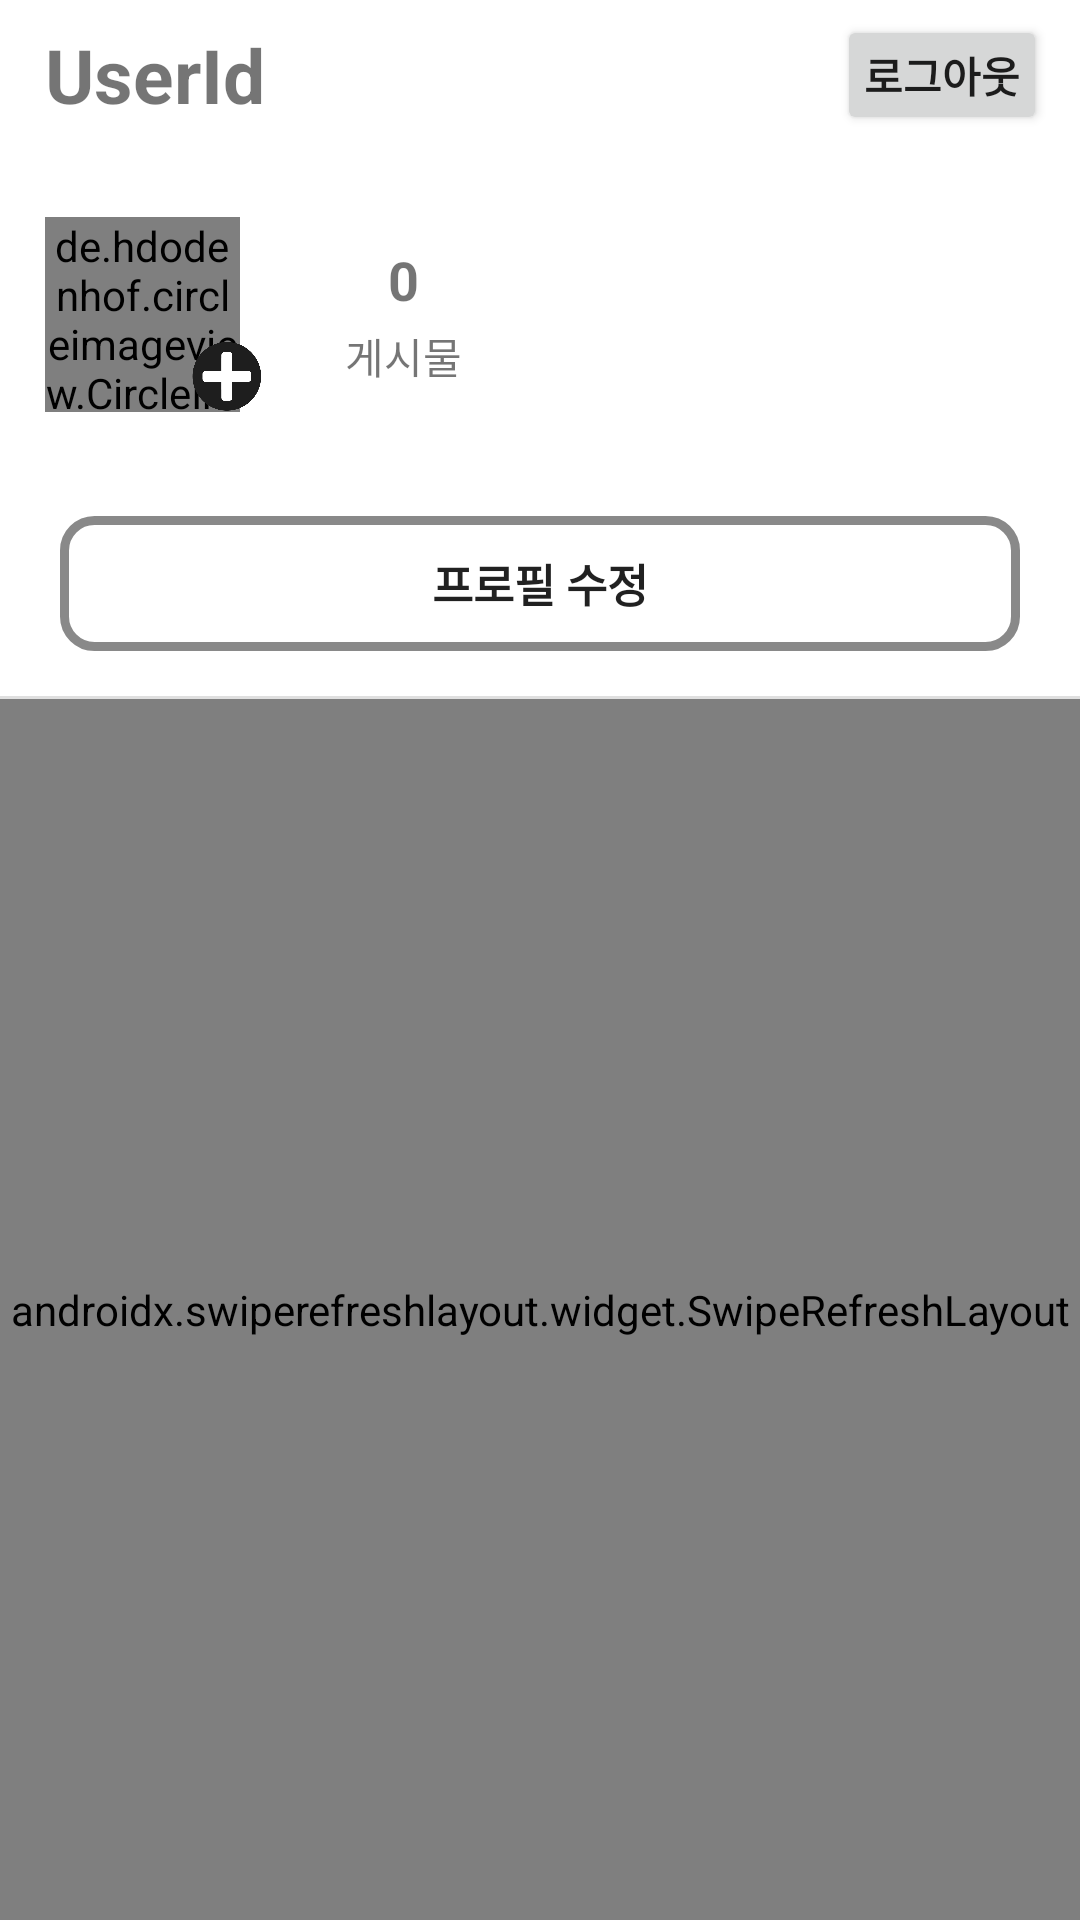

Screen size 1080x1920. Icon name, then its center in pixels as (x,y):
plus: (226,376)
